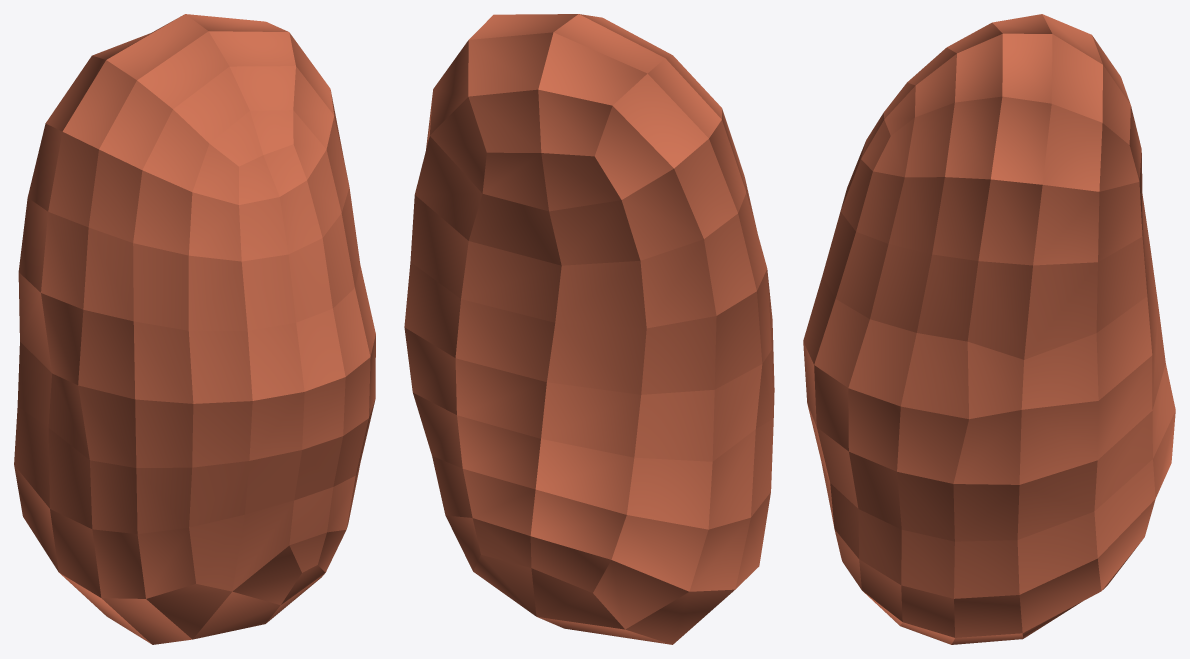
File: MeshPotatoB10_0.obj
3 renders of one model, left to right at view 1: azimuth 30°, elevation 25°; view 2: azimuth 150°, elevation 25°; view 3: azimuth 270°, elevation 25°, orthographic. The views are drawn at different scales.
Parts seen in each view (by area): view 1: PotatoB10; view 2: PotatoB10; view 3: PotatoB10.
Boxes of the visible parts, x1=… form: PotatoB10: x1=14, y1=14, x2=375, y2=644; PotatoB10: x1=404, y1=14, x2=774, y2=644; PotatoB10: x1=803, y1=14, x2=1175, y2=644.
Size of the model in its own units: 0.0719 by 0.128 by 0.0712.
